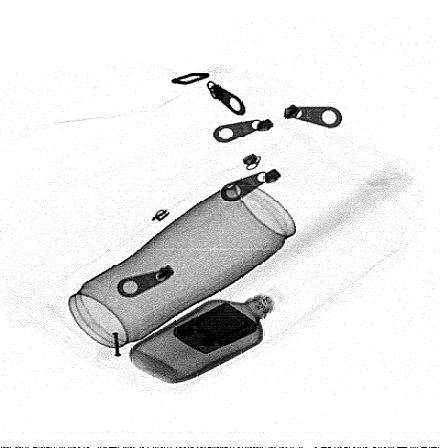Lighter: (172, 301, 259, 356)
